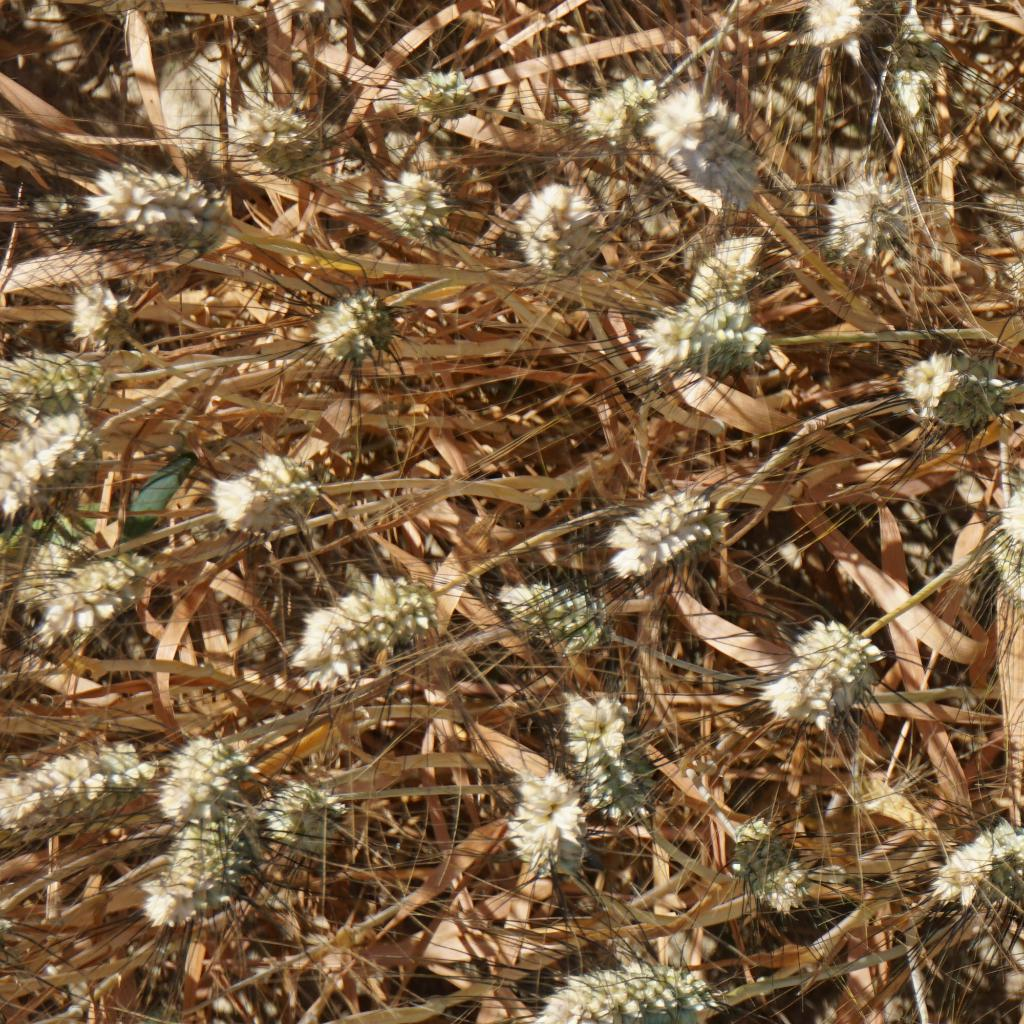0-0: (521, 947, 724, 1021), (742, 602, 874, 714), (139, 808, 251, 921), (642, 104, 777, 197), (291, 561, 390, 679), (208, 444, 338, 533), (0, 424, 116, 521), (600, 480, 722, 572), (35, 557, 177, 635), (0, 739, 135, 821), (569, 681, 657, 805), (819, 179, 935, 267), (88, 165, 240, 232), (132, 736, 258, 813), (633, 295, 752, 374), (724, 795, 807, 900), (500, 758, 586, 856), (880, 4, 951, 121), (502, 572, 614, 646), (929, 805, 1024, 889), (249, 775, 340, 858), (379, 161, 464, 249), (366, 569, 446, 651), (691, 224, 770, 305), (523, 179, 594, 269), (893, 360, 990, 425), (224, 100, 336, 153), (0, 351, 123, 397), (53, 287, 155, 342), (399, 58, 482, 123), (569, 69, 640, 141), (325, 301, 393, 372), (990, 451, 1024, 570), (805, 0, 864, 41), (992, 253, 1024, 306)
